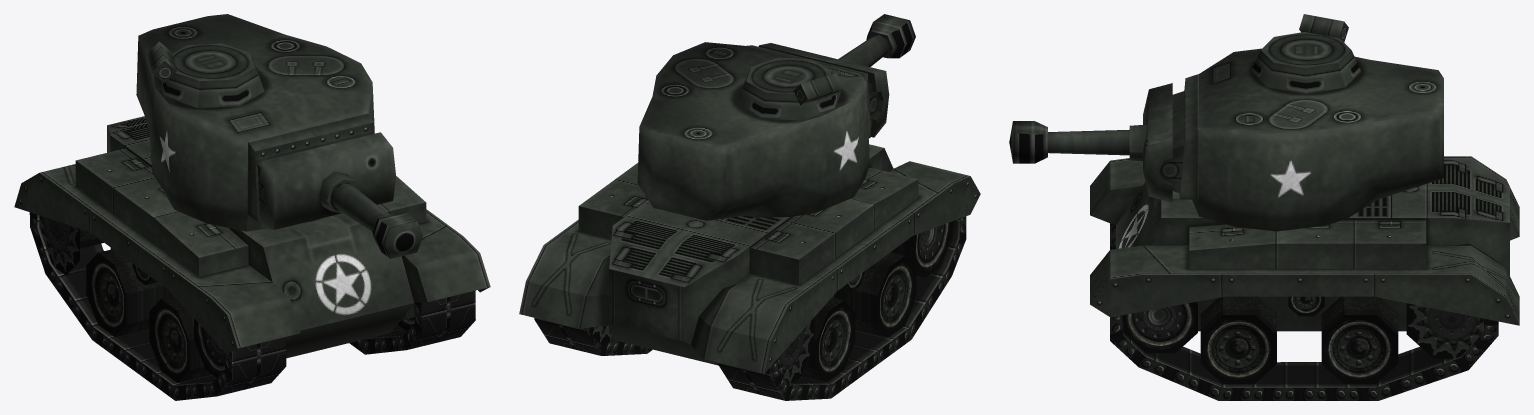
The model's file is M26_SD_Model_Track.FBX.
The picture shows the model from 3 angles, left to right: view 1: azimuth 30°, elevation 25°; view 2: azimuth 150°, elevation 25°; view 3: azimuth 270°, elevation 25°; orthographic projection. The views are drawn at different scales.
Visible parts, largest first — view 1: Body, Turret, RightTrack, Cannon, LeftTrack; view 2: Body, Turret, RightTrack, Cannon, LeftTrack; view 3: Body, Turret, LeftTrack, Cannon.
Part boxes in pixels (x1,y1,x2,y2): Body: [14, 116, 490, 358]; Turret: [136, 14, 374, 231]; RightTrack: [29, 212, 286, 400]; Cannon: [259, 132, 423, 258]; LeftTrack: [349, 290, 475, 354]; Body: [519, 144, 980, 373]; Turret: [637, 42, 879, 220]; RightTrack: [718, 216, 966, 400]; Cannon: [758, 14, 915, 137]; LeftTrack: [534, 318, 652, 355]; Body: [1090, 156, 1519, 331]; Turret: [1159, 14, 1443, 231]; LeftTrack: [1110, 296, 1498, 400]; Cannon: [1009, 83, 1172, 202].
Bounding box in the file's own units: 1.16 × 1.31 × 2.1.
2 materials, 2 textured.
